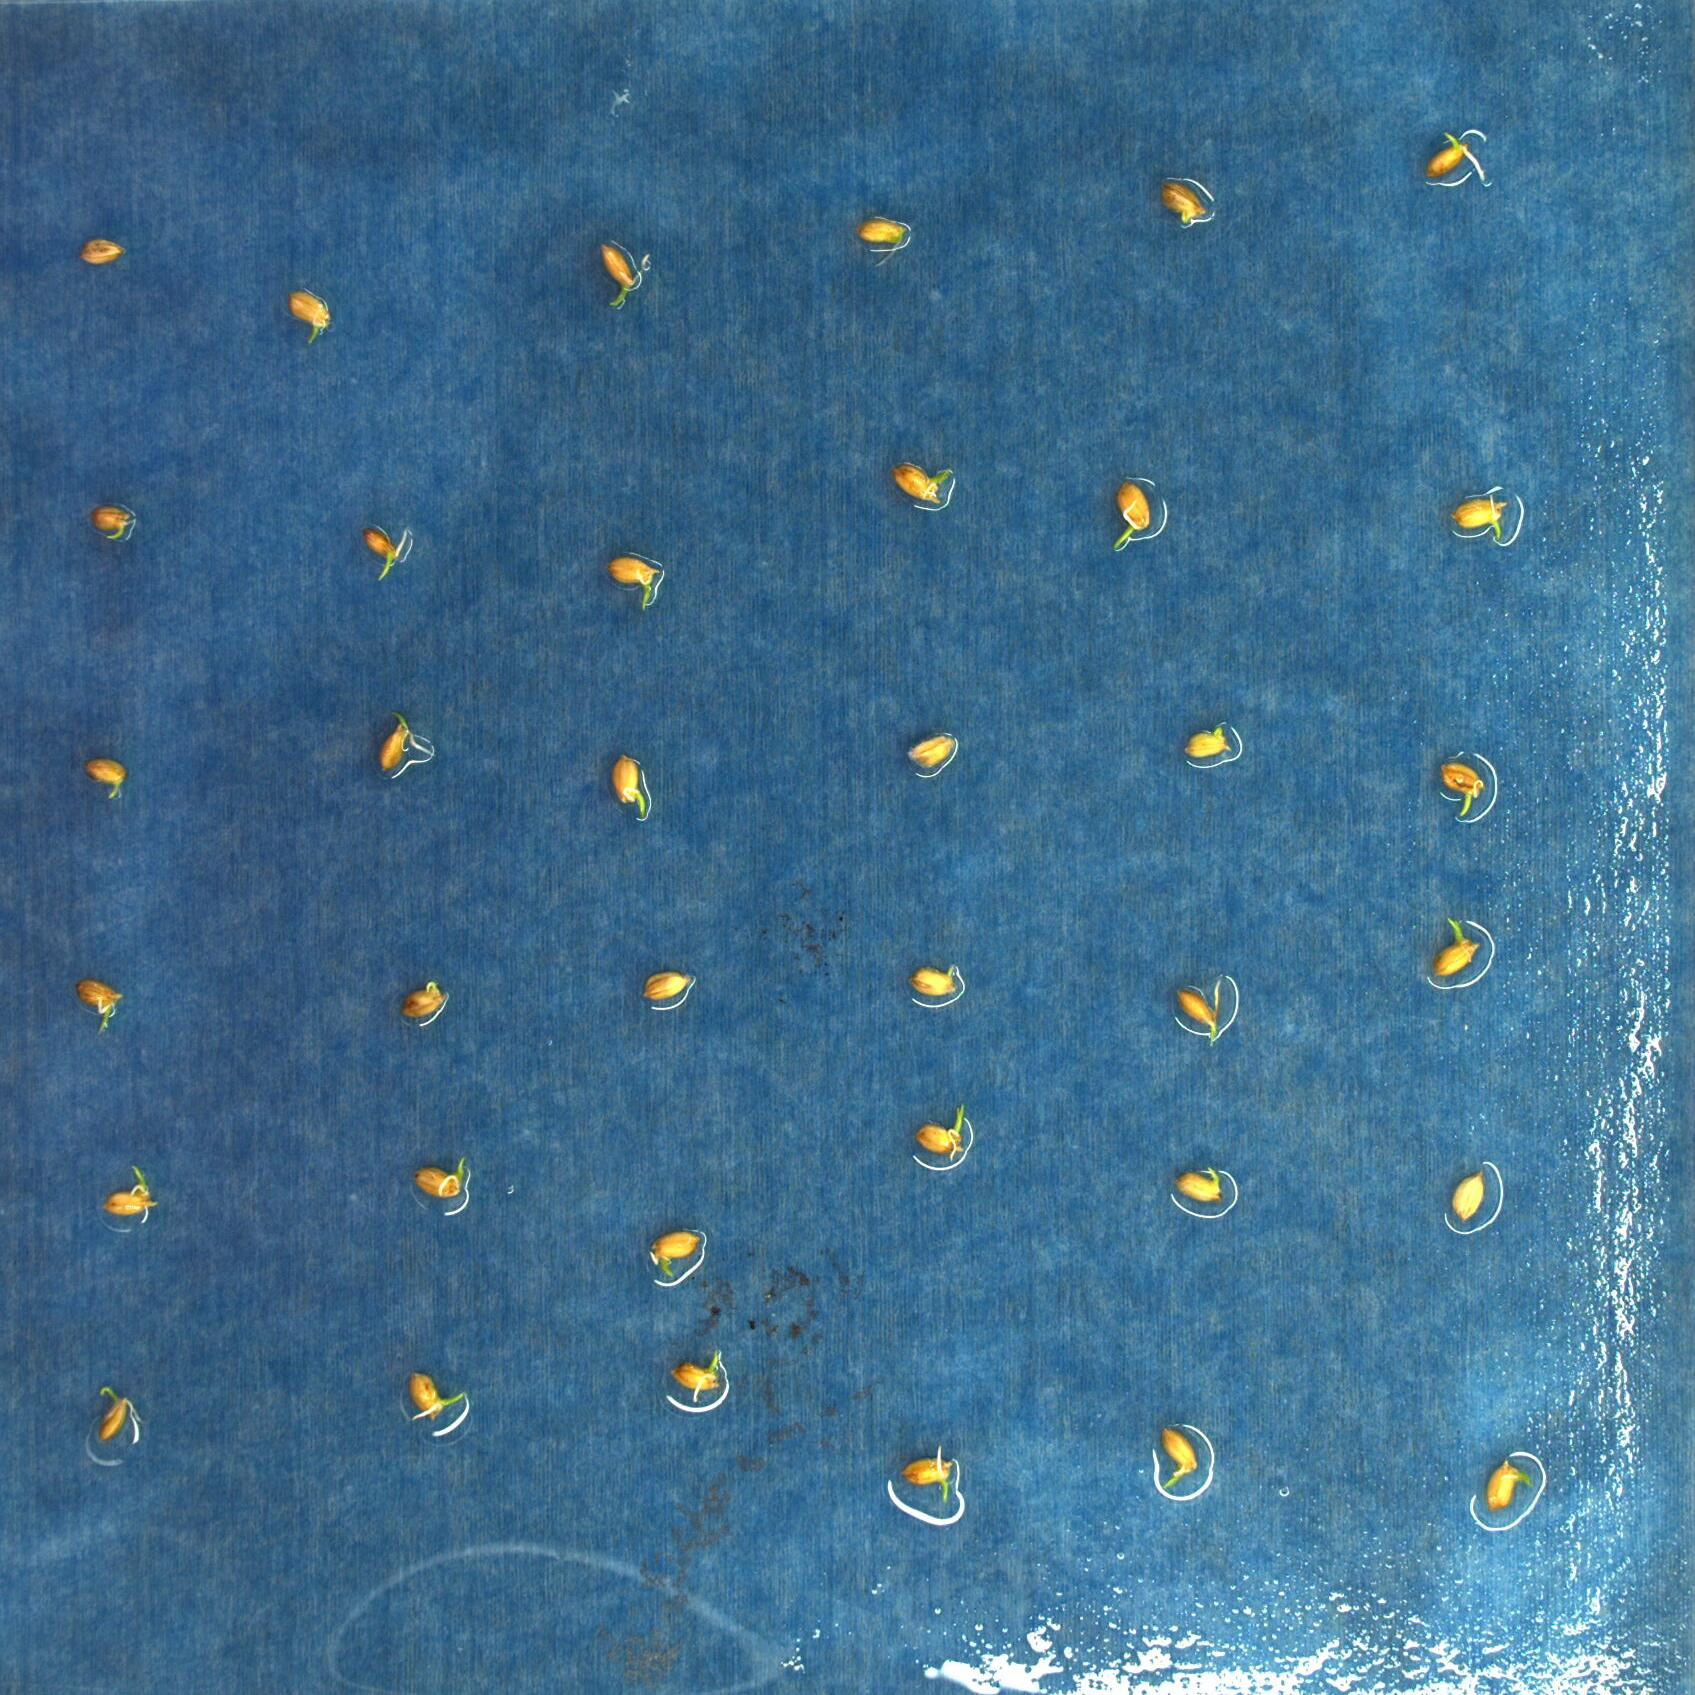not sprout: (1173, 976, 1223, 1046), (1423, 130, 1487, 183), (858, 217, 906, 265), (1159, 179, 1205, 224), (906, 733, 958, 771), (85, 754, 126, 799), (400, 981, 445, 1021), (1183, 723, 1232, 757), (908, 964, 961, 995), (640, 972, 694, 1000), (81, 237, 126, 265)
sprout: (377, 712, 433, 773), (599, 244, 650, 307), (605, 556, 661, 613), (900, 1444, 955, 1503), (407, 1371, 467, 1420), (671, 1347, 723, 1403), (893, 459, 953, 508), (1111, 480, 1152, 551), (104, 1163, 157, 1217), (75, 978, 126, 1034), (917, 1101, 969, 1156), (1433, 917, 1479, 978), (362, 525, 408, 584), (1159, 1425, 1198, 1492), (1440, 759, 1485, 816), (652, 1228, 700, 1281), (96, 1386, 140, 1444), (1485, 1461, 1532, 1513), (289, 289, 332, 345), (612, 753, 647, 820), (413, 1153, 466, 1198), (1451, 495, 1506, 539), (1451, 1166, 1487, 1225), (1173, 1167, 1226, 1205), (90, 504, 133, 540)
